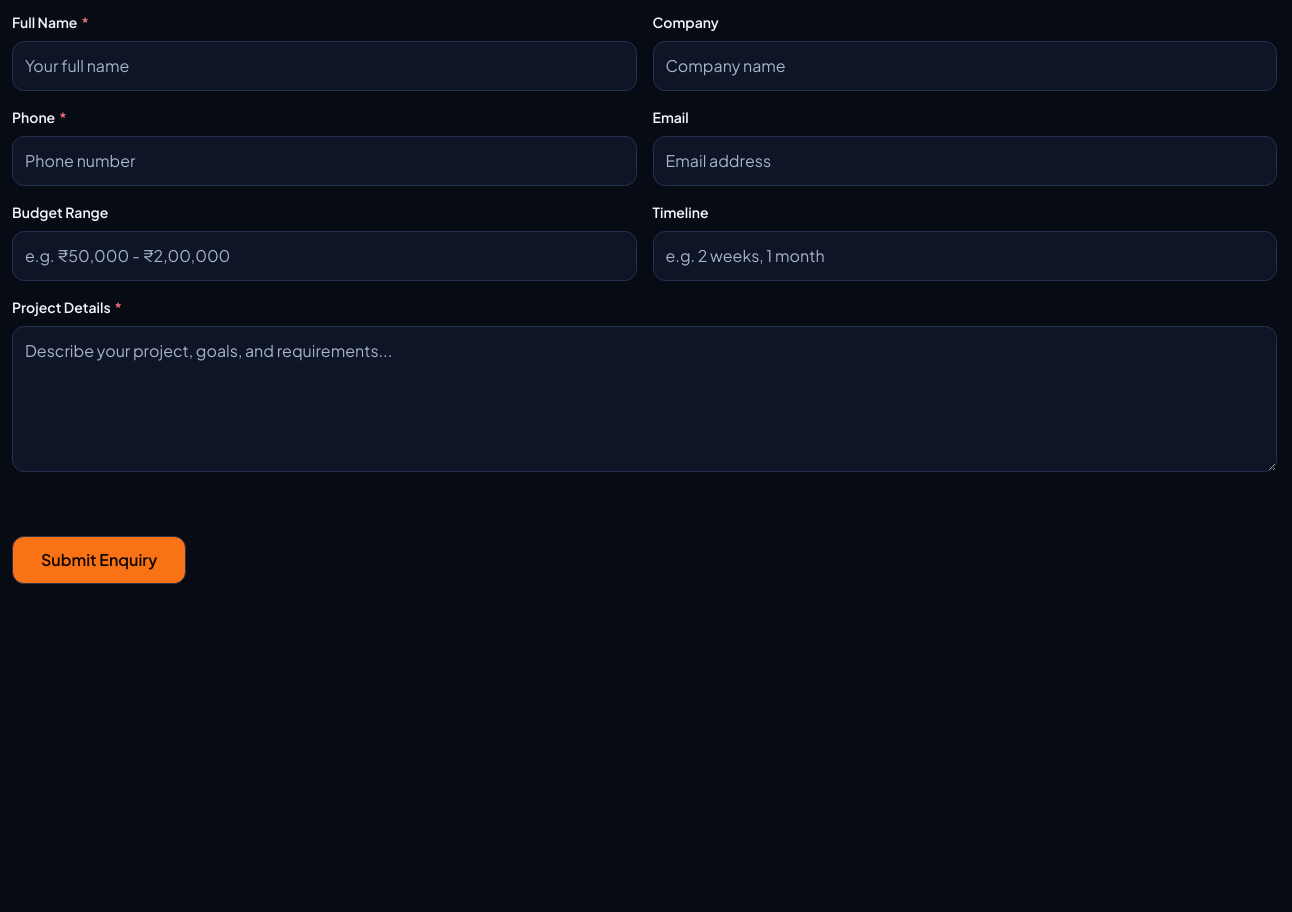
Scenario: rejected submit (Requirements 7.8, 11.9) › identifies every invalid field, keeps values, submits nothing, focuses the first invalid control
This screenshot has width=1292, height=912.
Type "Analytical Engines" into the field labelled "Company".
click(965, 66); type("Analytical Engines")  # box [652, 41, 1277, 91]
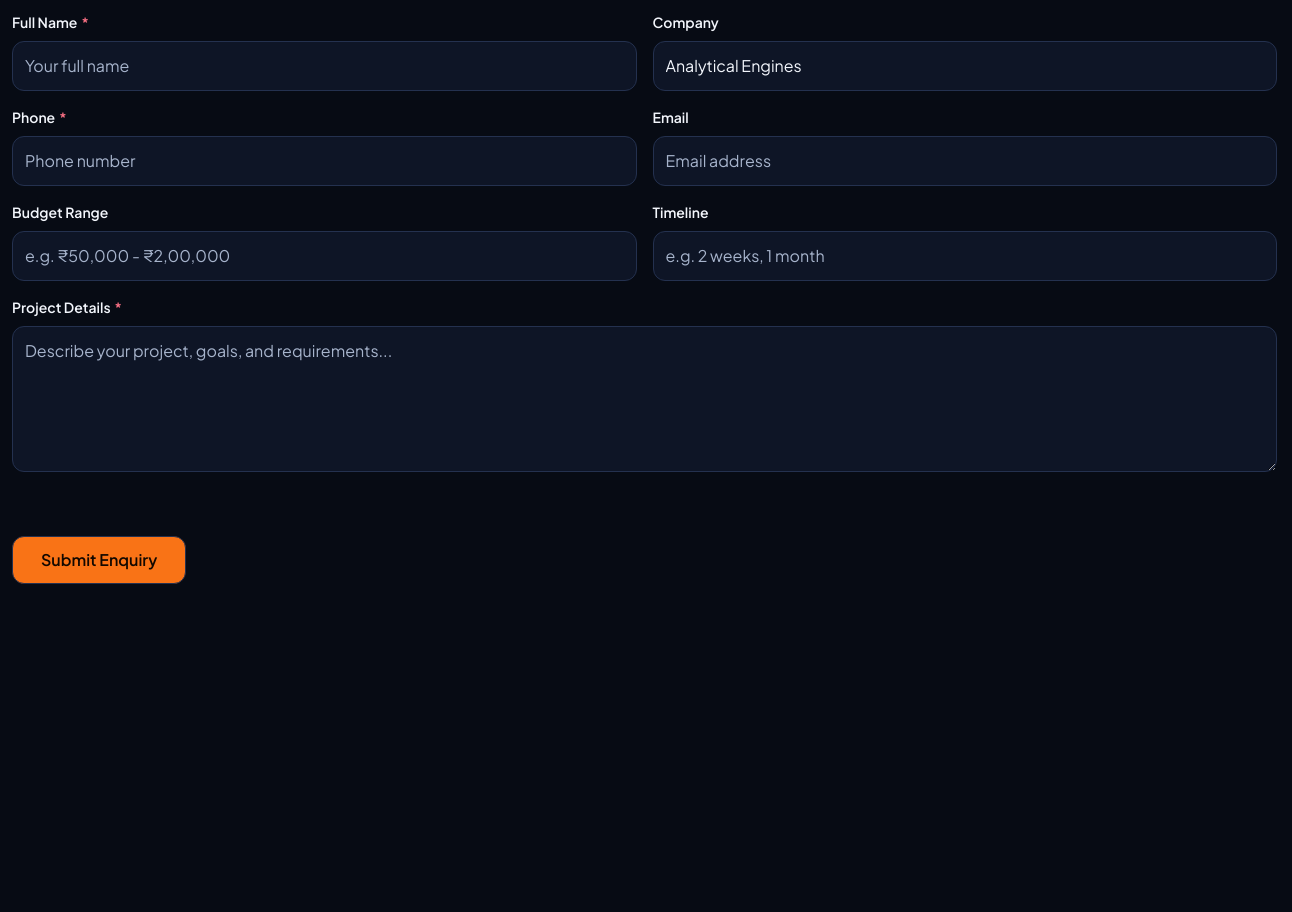
Type "123" into the field labelled "Phone *".
click(324, 161); type("123")  # box [12, 136, 636, 186]
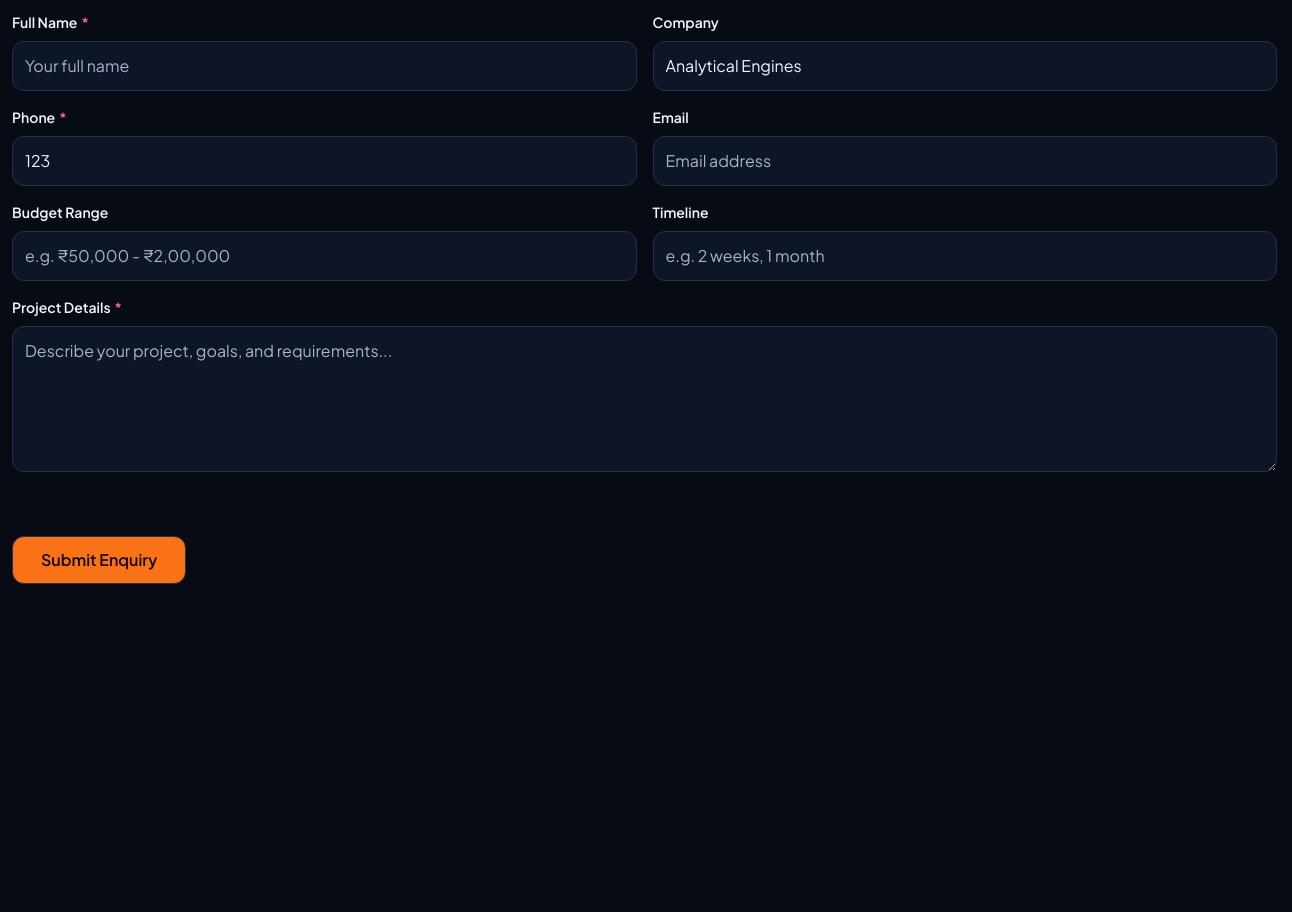
Type "nope" into the field labelled "Email".
click(965, 161); type("nope")  # box [652, 136, 1277, 186]
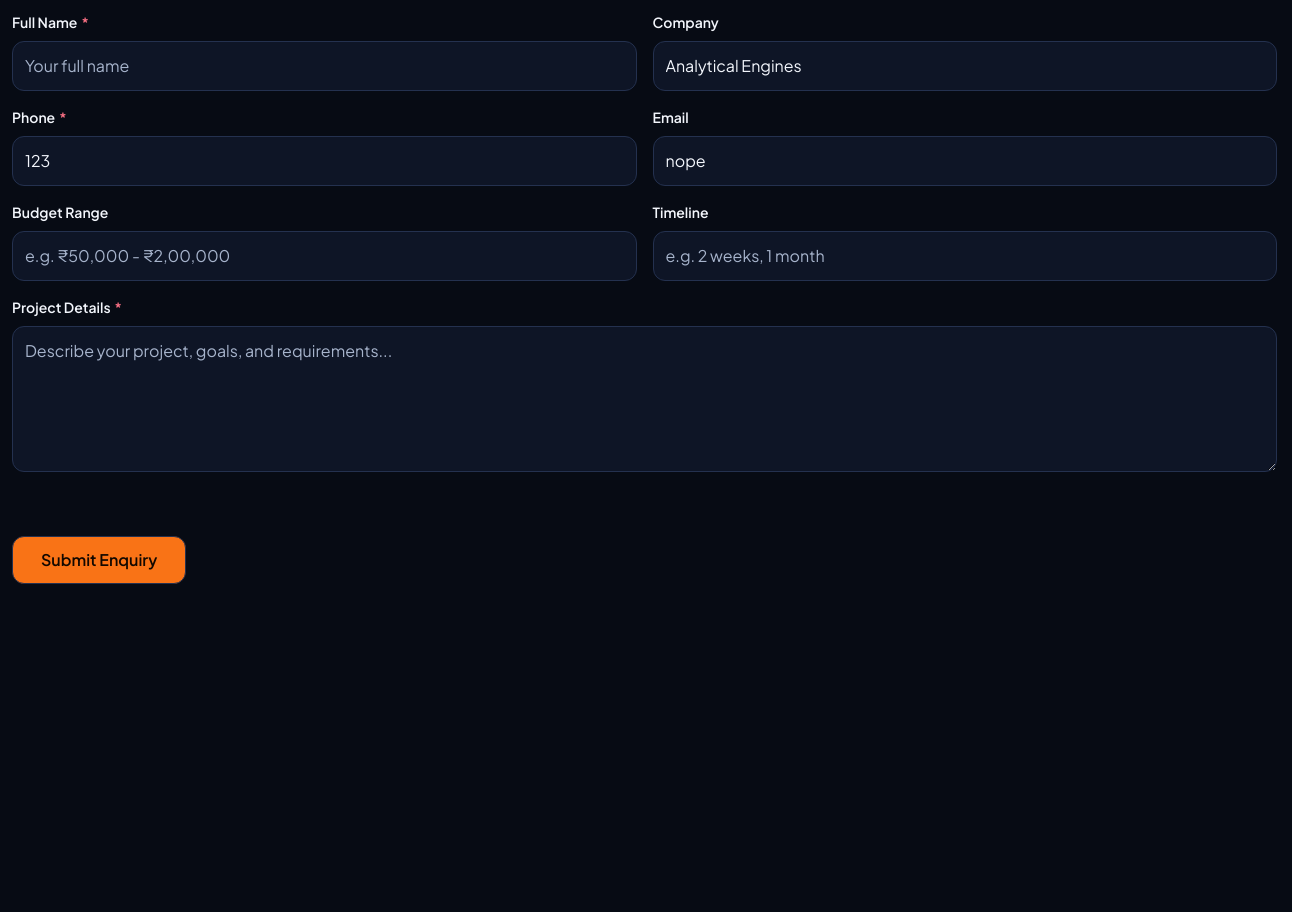
Click the button "Submit Enquiry".
click(99, 560)  # box [12, 536, 186, 584]
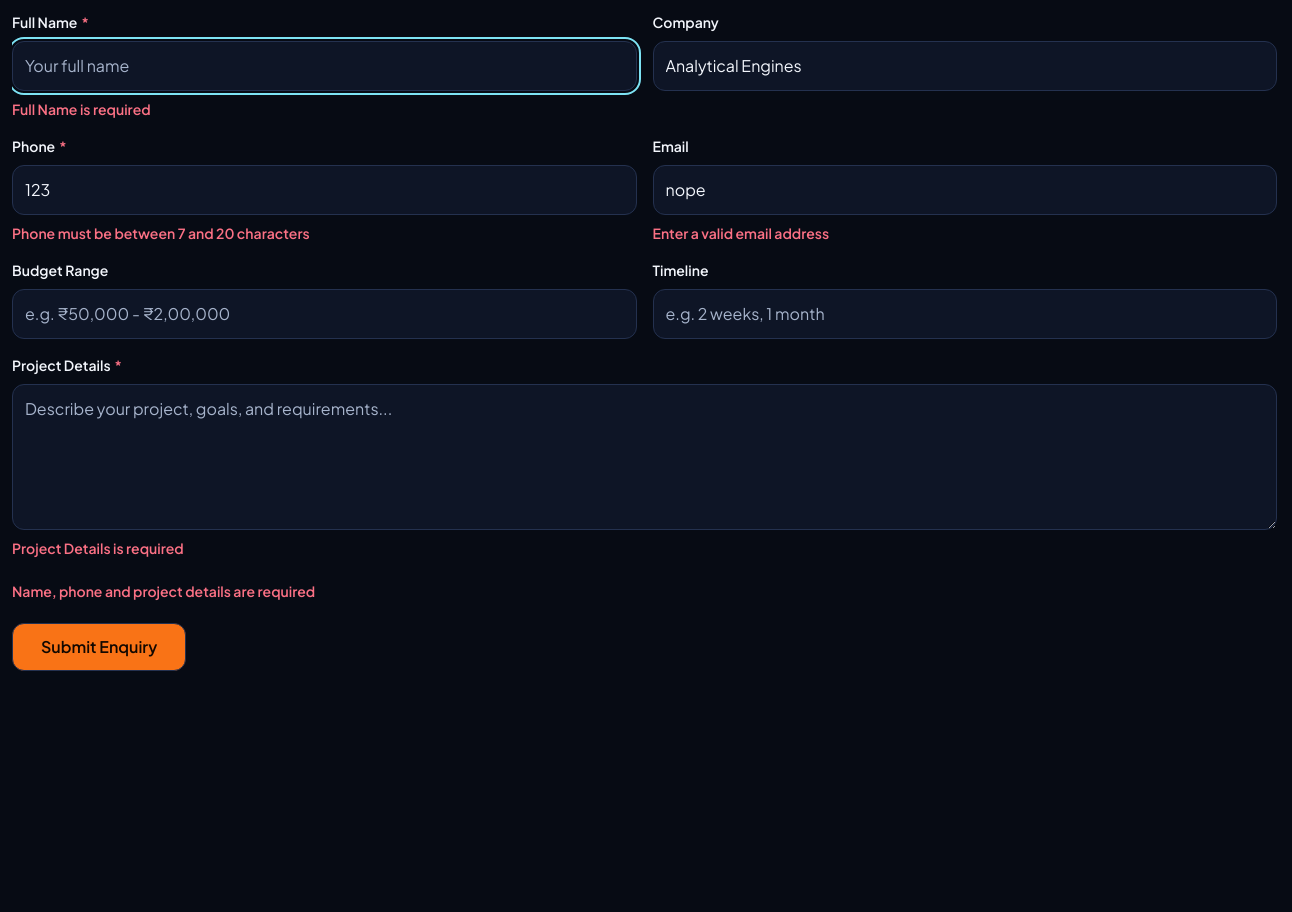
Check: the message "Name, phone and project details are required" is shown, box [12, 582, 315, 600]
